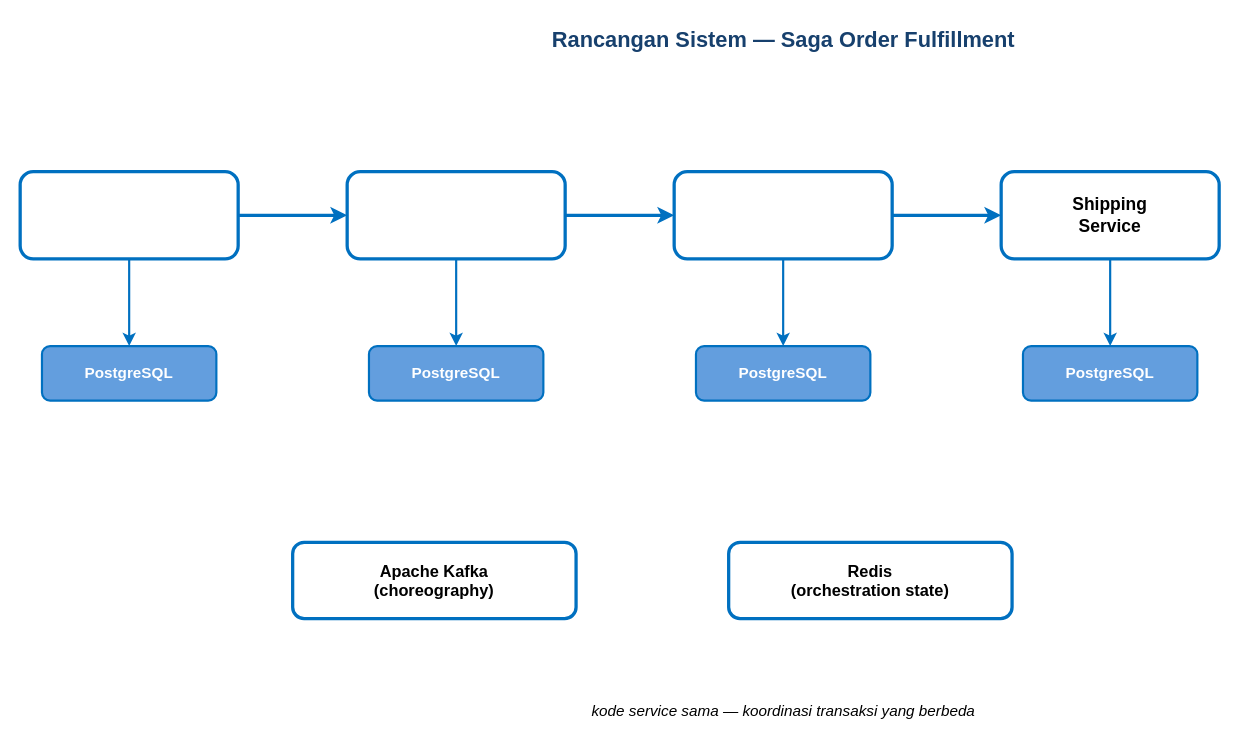
The diagram is 1239 pixels wide and 746 high, and some of its shapes have lost their labels. The shapes that lost their labels are listed below. From the top down, each one's centre as x and y in pixels, then its label:
At pixel 128 214: "Order Service".
At pixel 455 214: "Payment Service".
At pixel 782 214: "Inventory Service".
